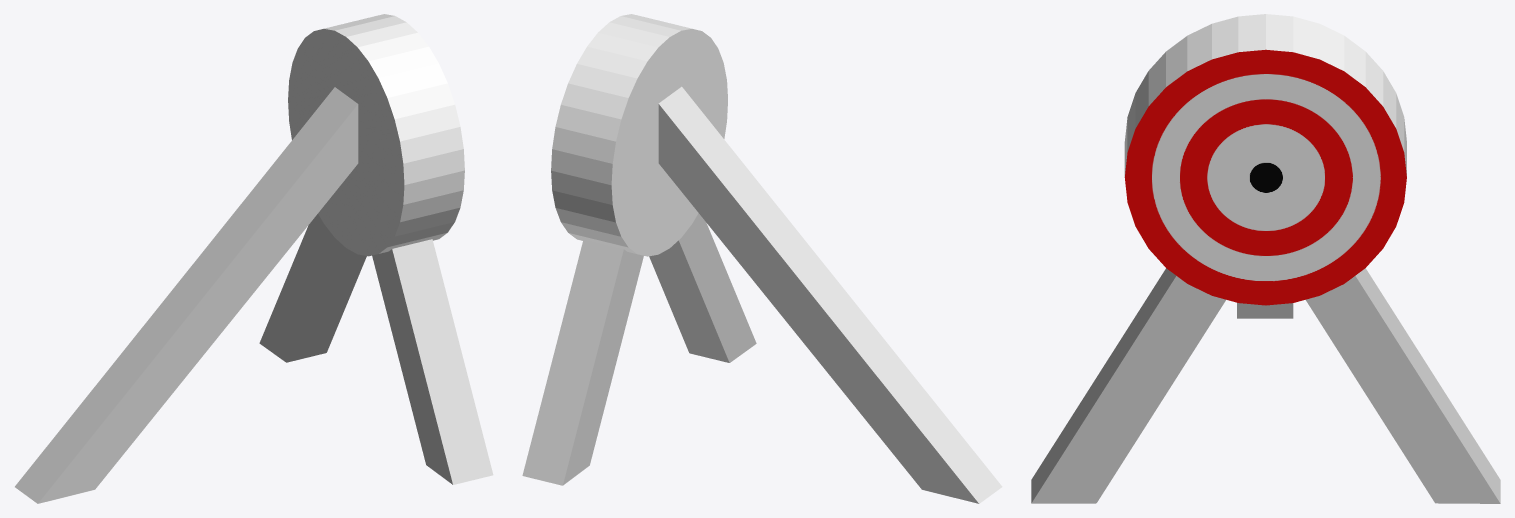
Rendered from target_mesh.fbx.
The picture shows the model from 3 angles, left to right: view 1: azimuth 30°, elevation 25°; view 2: azimuth 150°, elevation 25°; view 3: azimuth 270°, elevation 25°; orthographic projection. The views are drawn at different scales.
Visible parts, largest first — view 1: Stand2, Target, Stand1, Stand3; view 2: Stand2, Target, Stand3, Stand1; view 3: Target, Stand3, Stand1, Stand2.
Boxes of the visible parts, left/top/right/bottom form: Stand2: left=15, top=87, right=358, bottom=503; Target: left=288, top=14, right=464, bottom=256; Stand1: left=372, top=239, right=493, bottom=484; Stand3: left=259, top=214, right=366, bottom=362; Stand2: left=658, top=86, right=1002, bottom=503; Target: left=551, top=14, right=727, bottom=256; Stand3: left=522, top=239, right=643, bottom=485; Stand1: left=649, top=213, right=756, bottom=362; Target: left=1124, top=14, right=1406, bottom=305; Stand3: left=1306, top=268, right=1500, bottom=503; Stand1: left=1031, top=268, right=1225, bottom=503; Stand2: left=1237, top=303, right=1293, bottom=318.
Size of what is drawn, in the model's own units: 189 by 166 by 180.
2 materials, 1 textured.
